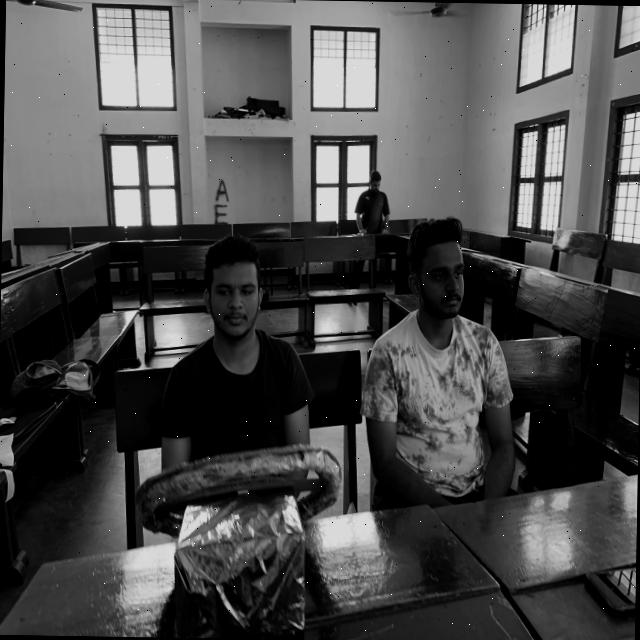Helmet: (157, 330, 316, 550), (367, 316, 518, 518)
